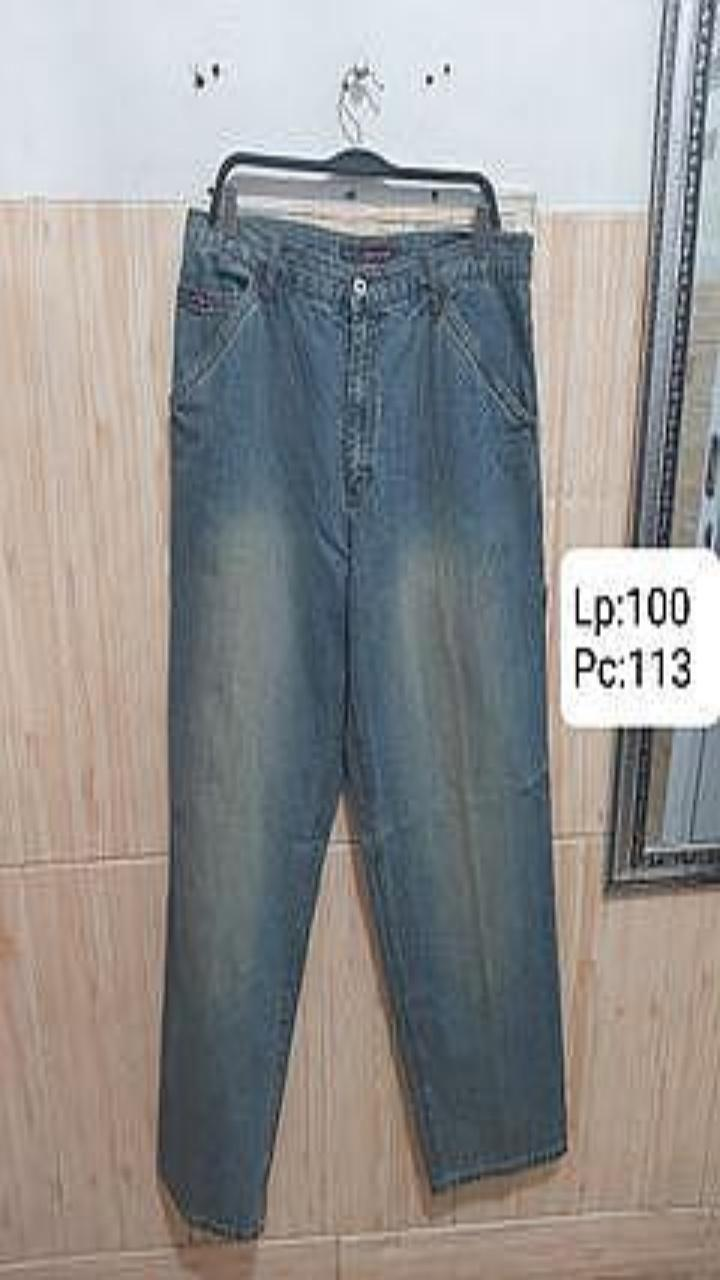Jeans: (157, 208, 566, 1237)
